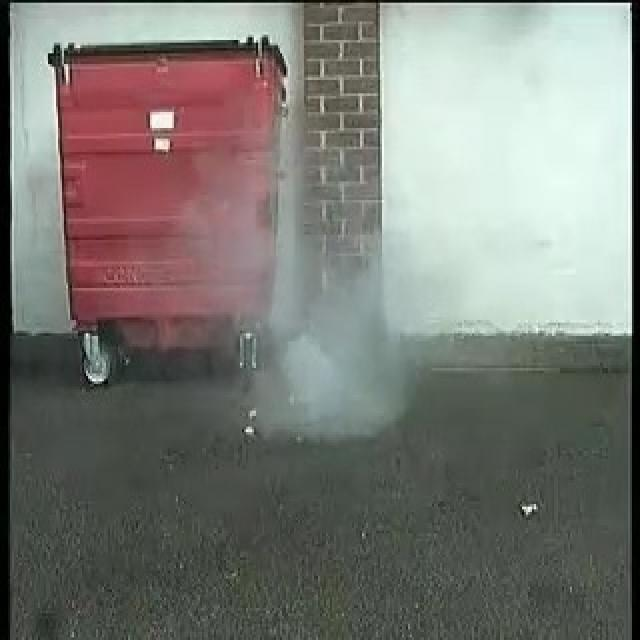smoke: (271, 234, 420, 432)
